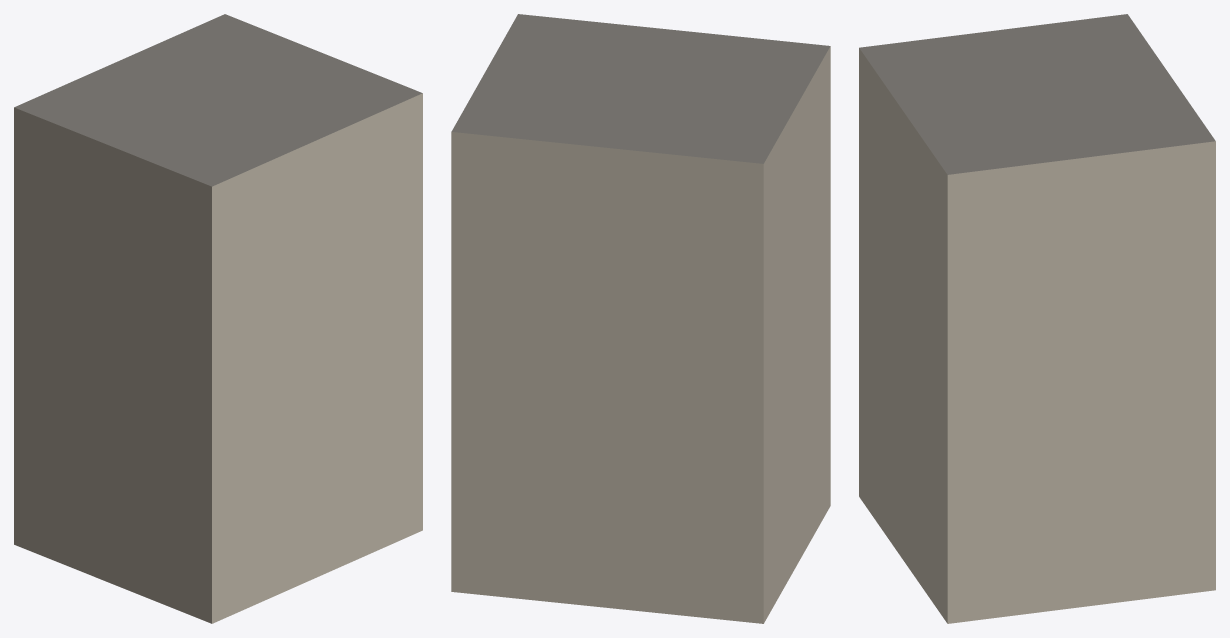
3 renders of one model, left to right at view 1: azimuth 30°, elevation 25°; view 2: azimuth 150°, elevation 25°; view 3: azimuth 270°, elevation 25°, orthographic. The views are drawn at different scales.
Parts seen in each view (by area): view 1: HP-w446933526; view 2: HP-w446933526; view 3: HP-w446933526.
Part boxes in pixels (x1,y1,x2,y2): HP-w446933526: (14, 14, 422, 623); HP-w446933526: (451, 14, 830, 623); HP-w446933526: (859, 14, 1215, 623).
Size of the model in its own units: 13.84 by 18 by 12.96.
